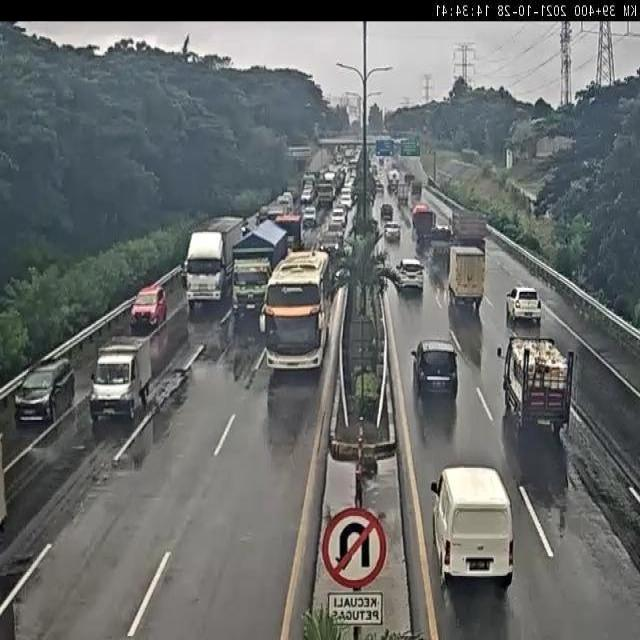Bus: (259, 250, 334, 374)
Car: (15, 357, 75, 426), (411, 339, 459, 398), (130, 284, 168, 325), (506, 285, 542, 323), (396, 258, 424, 290), (384, 223, 401, 238)
Truck: (496, 334, 575, 434), (180, 215, 243, 312), (89, 334, 152, 422), (233, 218, 288, 316), (448, 248, 488, 305), (448, 209, 486, 249)
Van: (432, 464, 515, 592)
